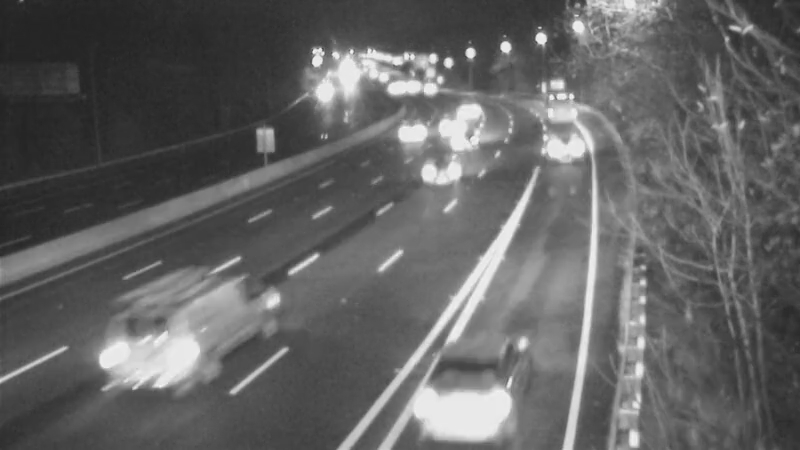vehicle: (91, 295, 201, 405), (408, 347, 518, 450), (400, 131, 480, 211), (365, 66, 415, 116), (399, 63, 449, 113), (525, 79, 575, 129), (442, 86, 492, 136), (422, 101, 472, 151), (381, 110, 431, 160), (450, 113, 500, 163), (537, 125, 587, 175), (302, 66, 352, 116)
